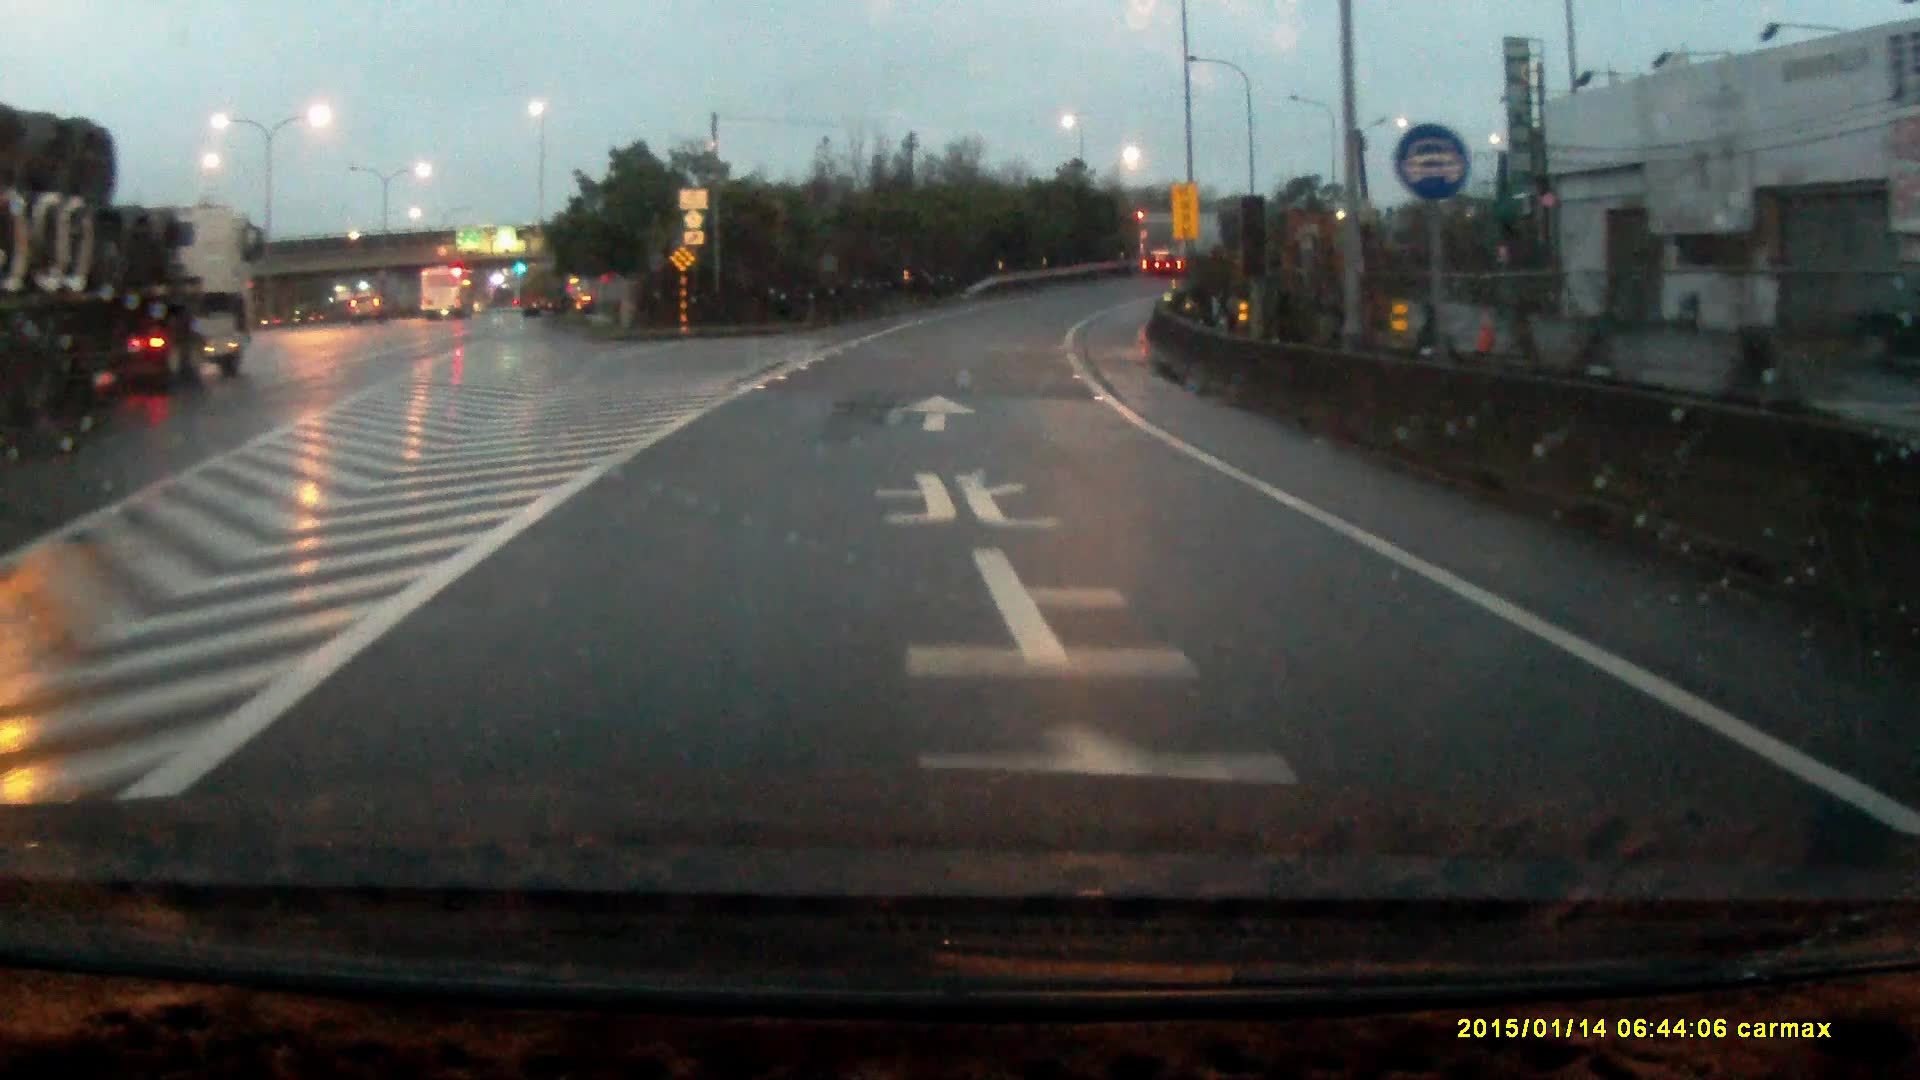vehicle: (1, 105, 264, 411), (1137, 212, 1232, 278), (419, 264, 480, 320), (349, 291, 386, 323)
